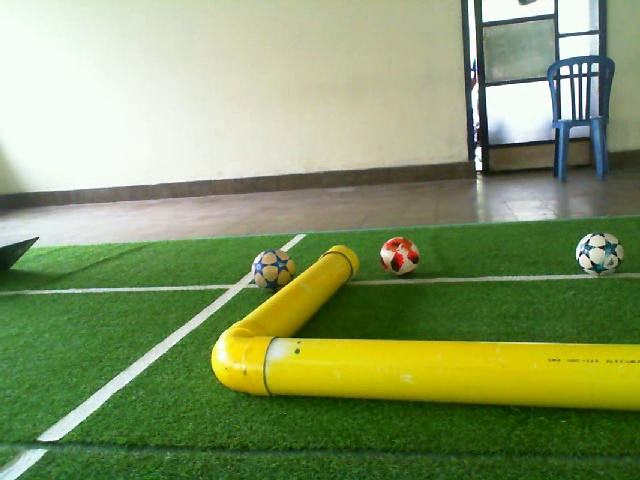ball: (574, 231, 624, 277), (250, 249, 297, 292), (378, 236, 420, 278)
